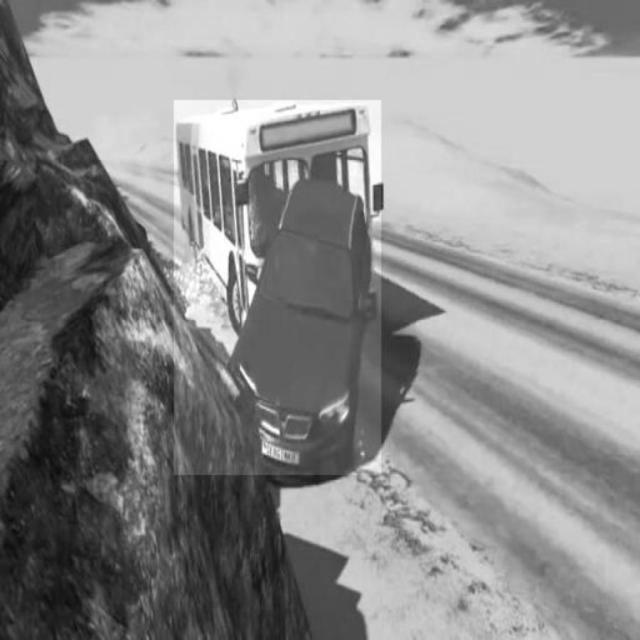accident: (174, 100, 381, 475)
